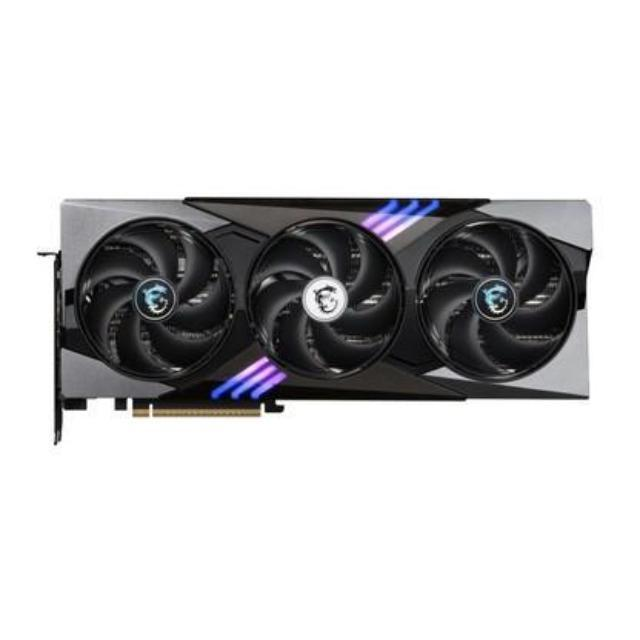GPU: (50, 190, 610, 424)
